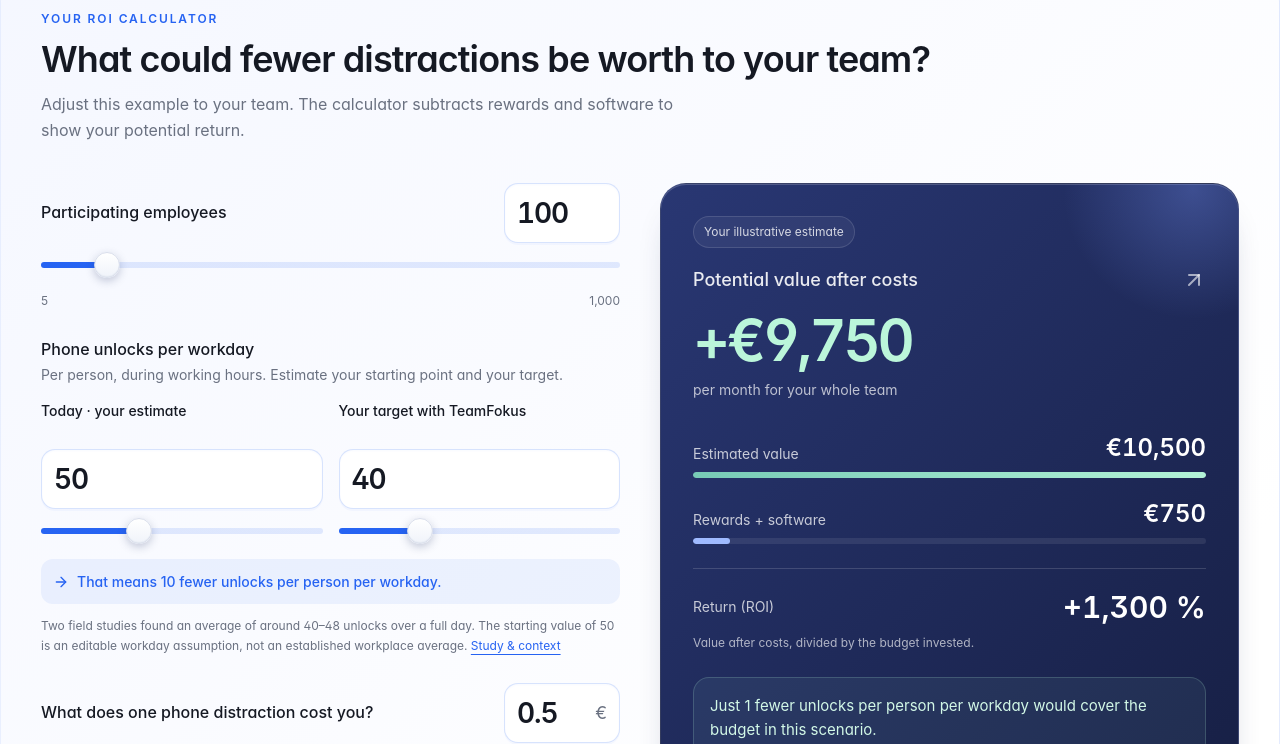
Test: ROI calculator interactions › scales to 1,000 people while keeping the team bonus capped
expect the number field labelled "Participating employees" holds "100": met, box left=517, top=192, right=607, bottom=234
expect the element with test id "roi-net" shows "+€9,750": met, box left=693, top=305, right=912, bottom=375
Set the slider named "Participating employees" to "1000" at (612, 265), box left=41, top=243, right=620, bottom=287
(page scrolled)
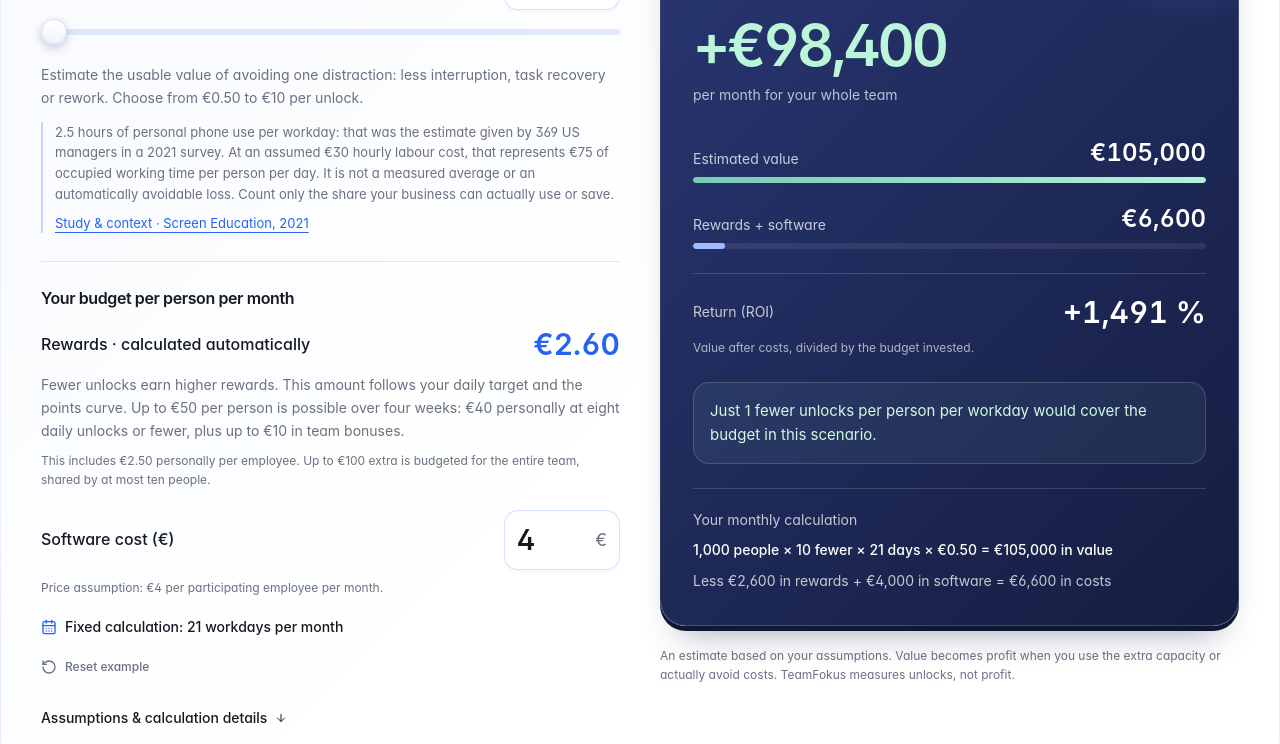
expect the text with test id "roi-reward-pool" shows "€100 extra": met, box left=41, top=453, right=580, bottom=487
expect the element with test id "roi-net" shows "+€98,400": met, box left=693, top=10, right=946, bottom=80
expect the element with test id "roi-calculation" shows "1,000 people × 10 fewer × 21 days × €0.50 = €105,000": met, box left=693, top=542, right=1113, bottom=559
